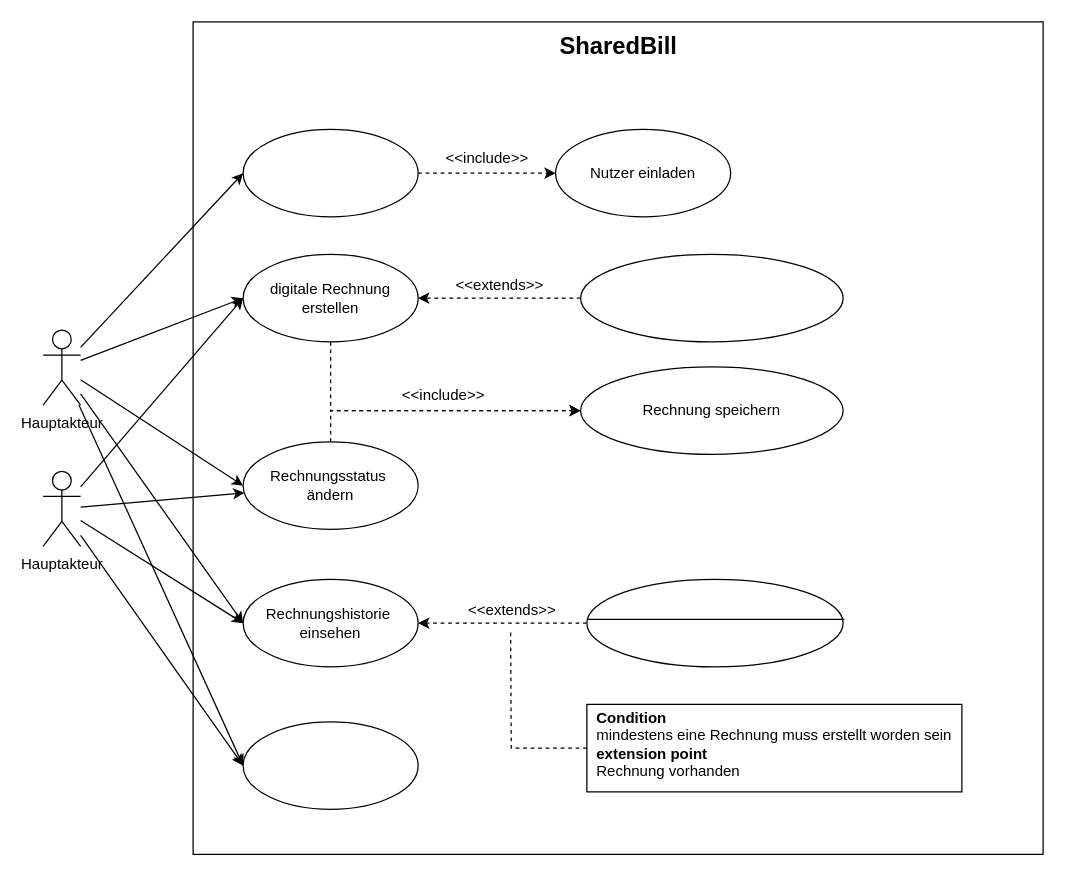
Some shapes in this 1065 by 876 pixel diagram are drawn without their labels. Here are the shapes that lost their labels. From the top down, the box of each, then its label:
(242, 128, 418, 217): Rechnung aufteilen
(579, 253, 843, 342): Rechnung abfotografieren
(586, 578, 843, 667): Rechnung einsehen extension points Rechnung vorhanden
(242, 721, 418, 809): Rechnung löschen
